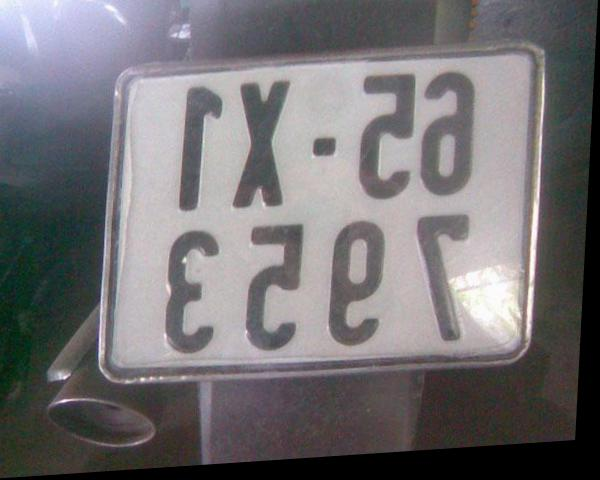License_Plate: (104, 43, 543, 392)
